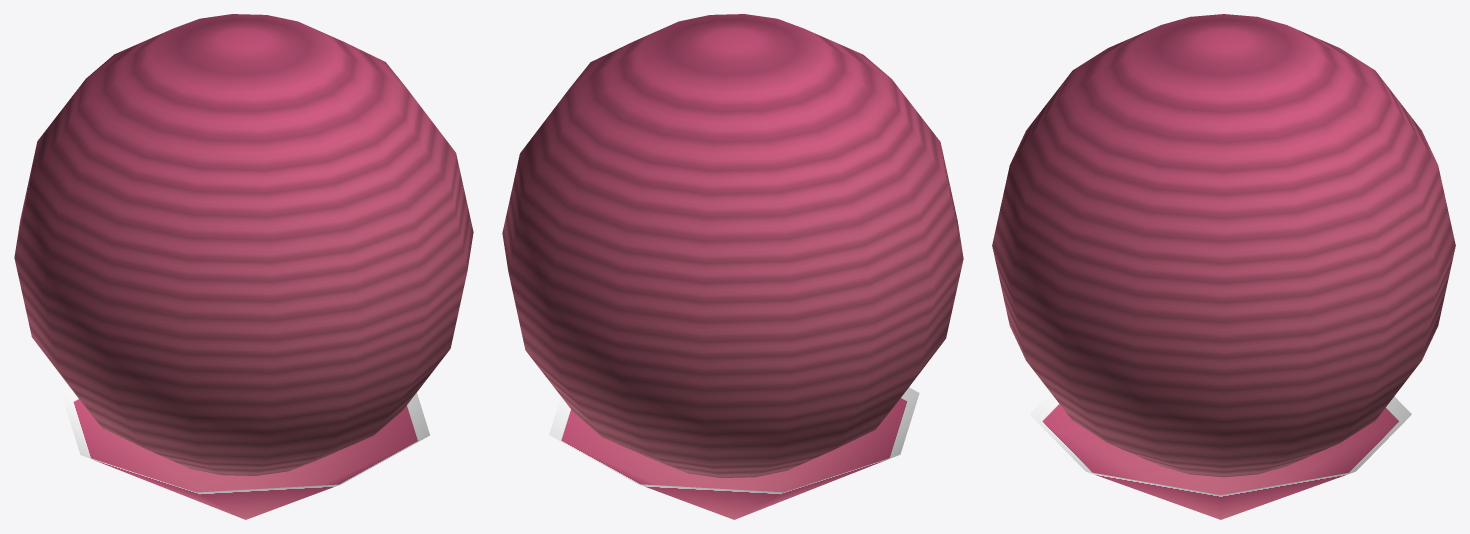
File: Terminal_001_Holo_001.fbx
3 renders of one model, left to right at view 1: azimuth 30°, elevation 25°; view 2: azimuth 150°, elevation 25°; view 3: azimuth 270°, elevation 25°, orthographic.
Parts seen in each view (by area): view 1: Terminal_001_Holo_001; view 2: Terminal_001_Holo_001; view 3: Terminal_001_Holo_001.
Part boxes in pixels (left/top/right/bottom): Terminal_001_Holo_001: left=14, top=14, right=473, bottom=519; Terminal_001_Holo_001: left=502, top=14, right=963, bottom=519; Terminal_001_Holo_001: left=992, top=14, right=1455, bottom=519.
Size of the model in its own units: 39.99 by 39.99 by 46.09.
